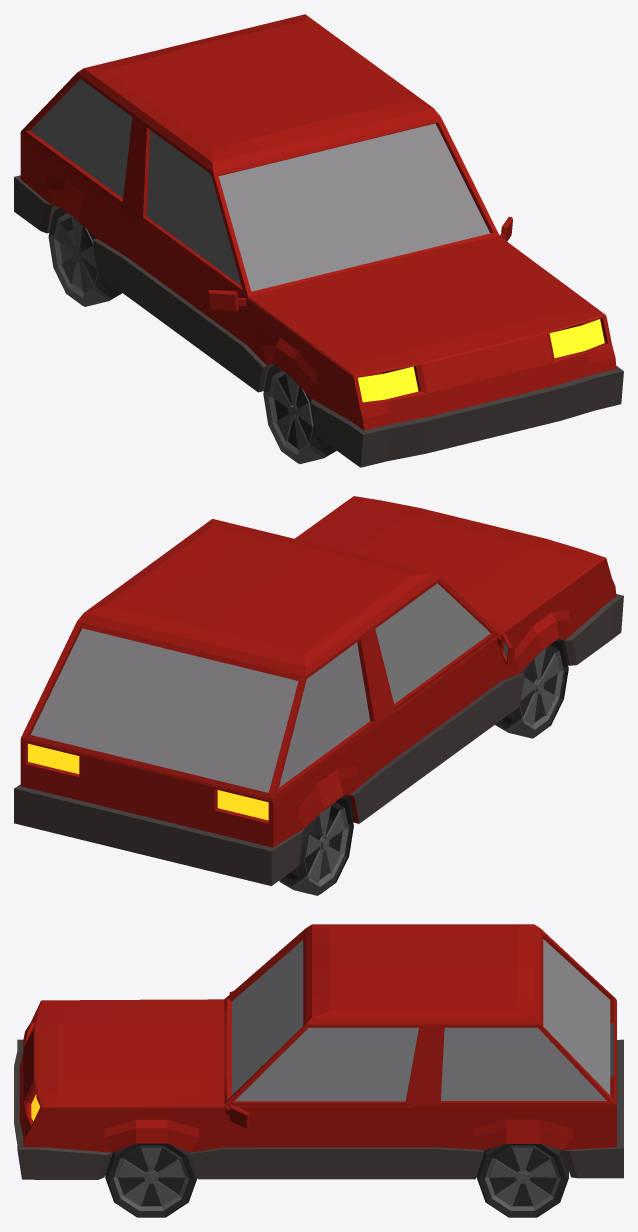
Rendered from car1.fbx.
The picture shows the model from 3 angles, top to bottom: view 1: azimuth 30°, elevation 25°; view 2: azimuth 150°, elevation 25°; view 3: azimuth 270°, elevation 25°; orthographic projection. The views are drawn at different scales.
Parts seen in each view (by area): view 1: Cube, Cylinder; view 2: Cube, Cylinder; view 3: Cube, Cylinder.
Boxes of the visible parts, bbox=[...] form: Cube: bbox=[14, 14, 623, 467]; Cylinder: bbox=[48, 208, 336, 463]; Cube: bbox=[14, 496, 623, 885]; Cylinder: bbox=[279, 639, 568, 895]; Cube: bbox=[14, 924, 623, 1179]; Cylinder: bbox=[105, 1143, 568, 1217].
Bounding box in the file's own units: 409 × 295 × 822.
